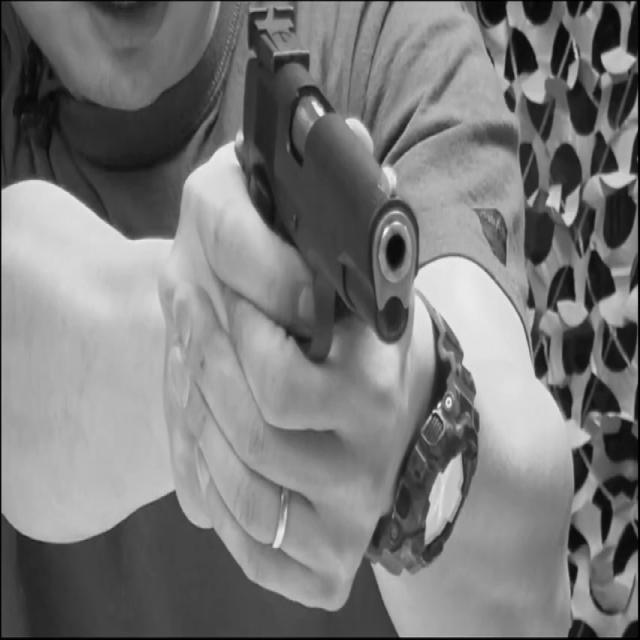Hand-Gun: (240, 0, 434, 373)
